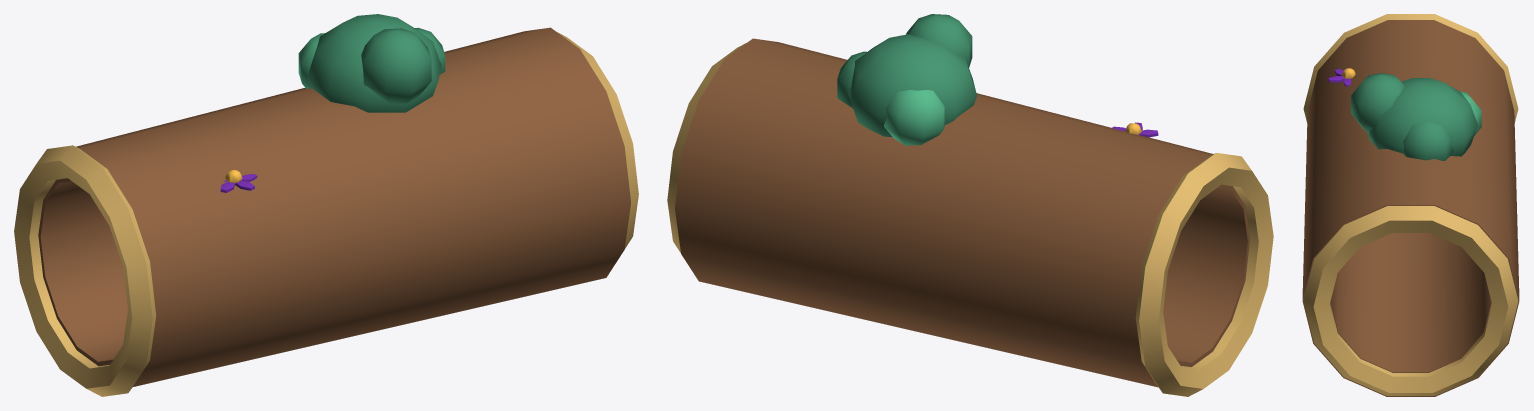
File: W3_Log_B.fbx
3 views of the same model, side by side, from view 1: azimuth 30°, elevation 25°; view 2: azimuth 150°, elevation 25°; view 3: azimuth 270°, elevation 25° (orthographic). The views are drawn at different scales.
Visible parts, largest first — view 1: W3_Log_B; view 2: W3_Log_B; view 3: W3_Log_B.
Boxes of the visible parts, <box> form: W3_Log_B: <box>14,14,638,396</box>; W3_Log_B: <box>667,14,1273,396</box>; W3_Log_B: <box>1302,14,1519,396</box>.
Size of the model in its own units: 4.67 by 2.63 by 2.1.
